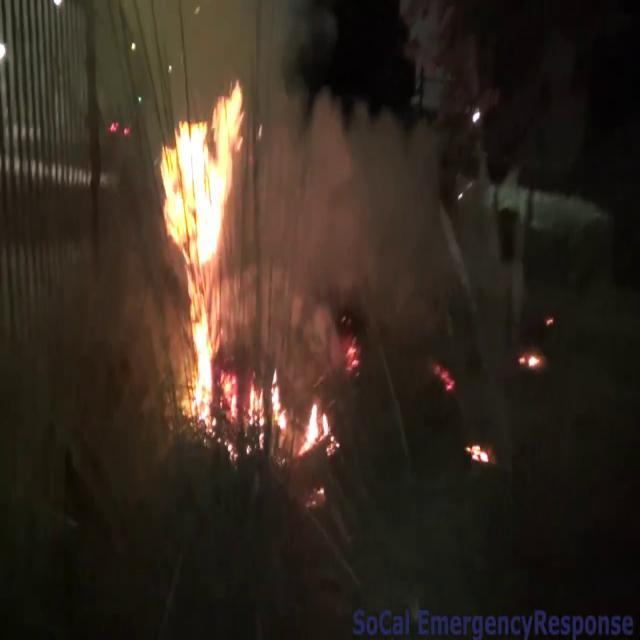Fire: (157, 62, 250, 424), (248, 364, 288, 438)
Smoke: (242, 5, 446, 336)
